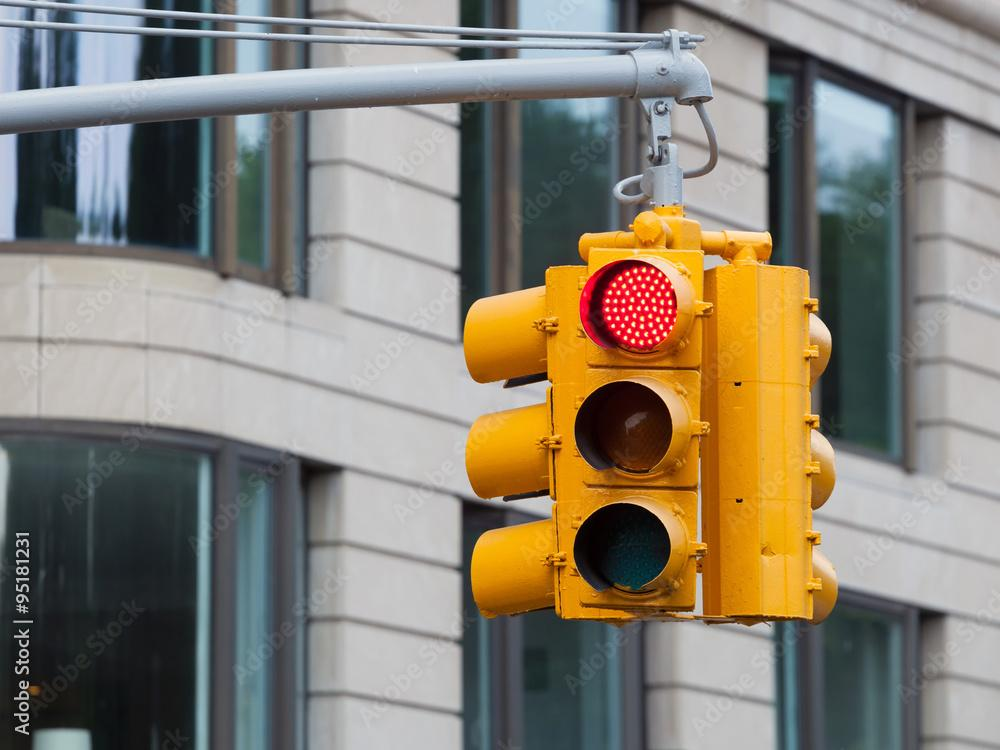red: (574, 230, 710, 614)
